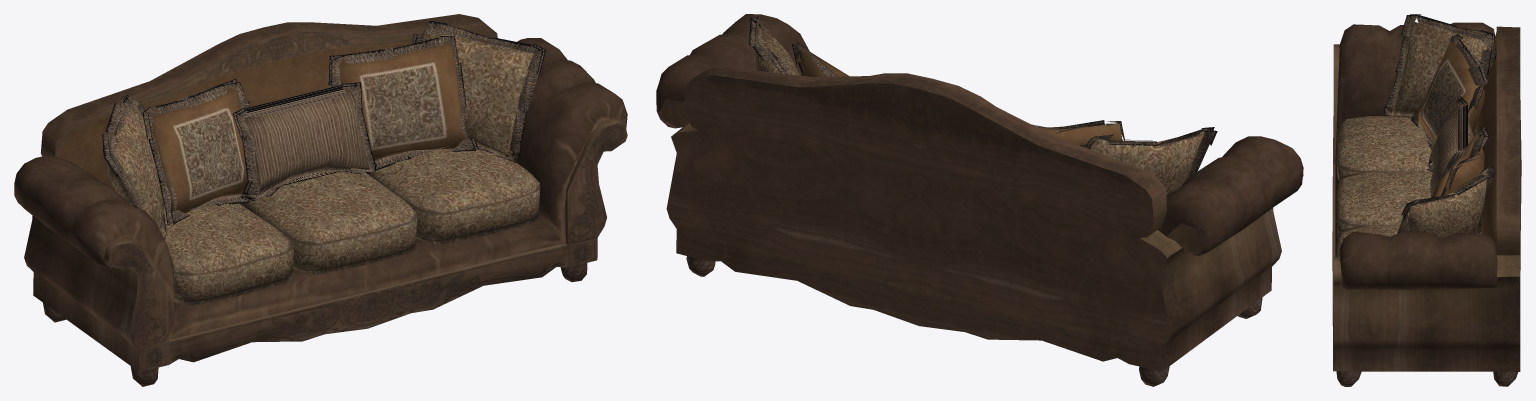
Rendered from sofa_03-lod.glb.
3 views of the same model, side by side, from view 1: azimuth 30°, elevation 25°; view 2: azimuth 150°, elevation 25°; view 3: azimuth 270°, elevation 25° (orthographic). The views are drawn at different scales.
Visible parts, largest first — view 1: sofa_03; view 2: sofa_03; view 3: sofa_03.
Part boxes in pixels (<box>): sofa_03: <box>14,14,627,386</box>; sofa_03: <box>656,14,1303,386</box>; sofa_03: <box>1332,14,1521,386</box>.
Bounding box in the file's own units: 2.73 × 1.12 × 0.9237.
2 materials, 2 textured.
